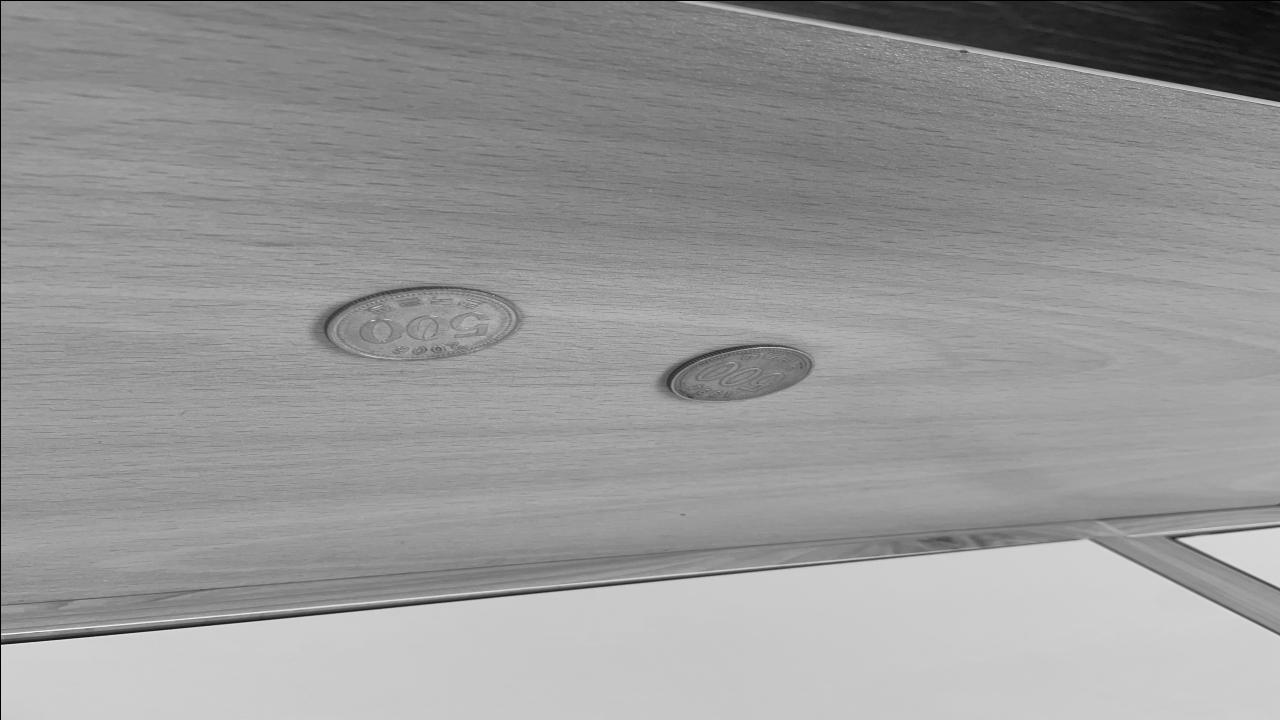coin: (324, 284, 524, 362), (666, 343, 814, 401)
